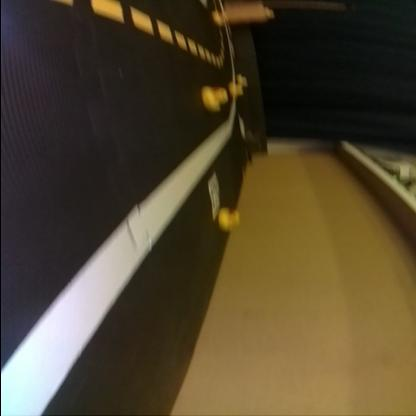Duckie: (202, 85, 226, 111), (219, 208, 240, 229), (230, 84, 242, 96), (237, 74, 247, 84), (266, 8, 274, 17)
QR code: (209, 174, 219, 220)
